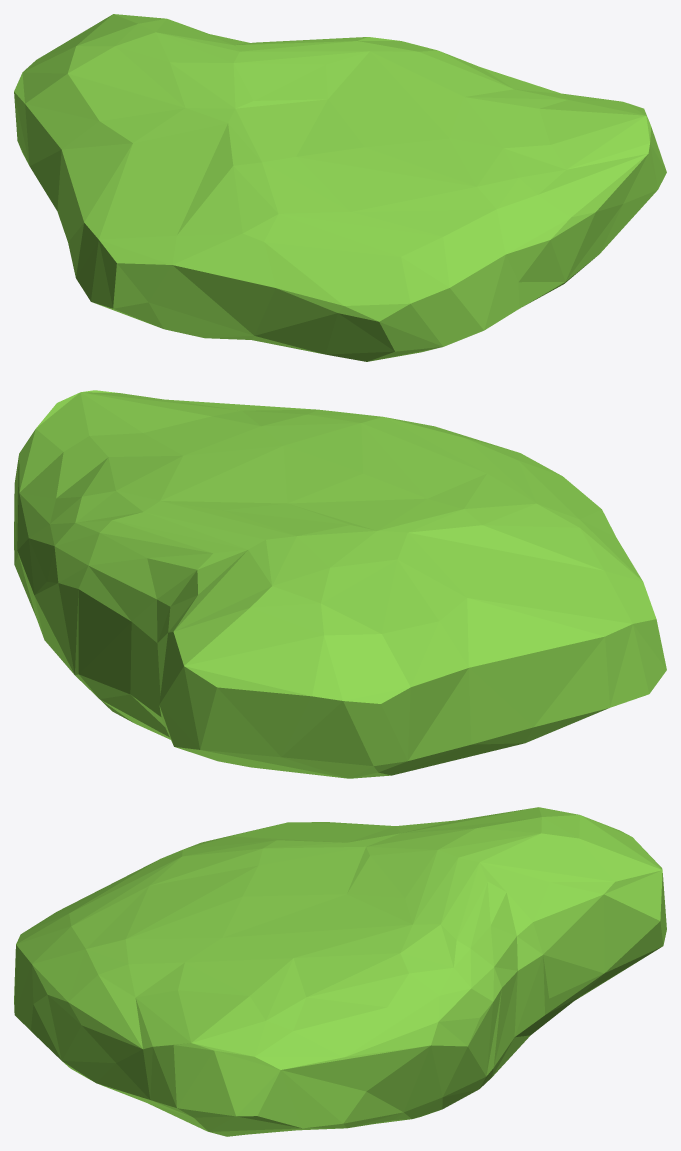
File: Mosh 02.FBX
The picture shows the model from 3 angles, top to bottom: view 1: azimuth 30°, elevation 25°; view 2: azimuth 150°, elevation 25°; view 3: azimuth 270°, elevation 25°; orthographic projection. The views are drawn at different scales.
Parts seen in each view (by area): view 1: cube; view 2: cube; view 3: cube.
Part boxes in pixels (bbox=[...]): cube: bbox=[14, 14, 666, 361]; cube: bbox=[14, 390, 666, 778]; cube: bbox=[14, 807, 666, 1136].
Size of the model in its own units: 93.28 by 33.01 by 93.14.
